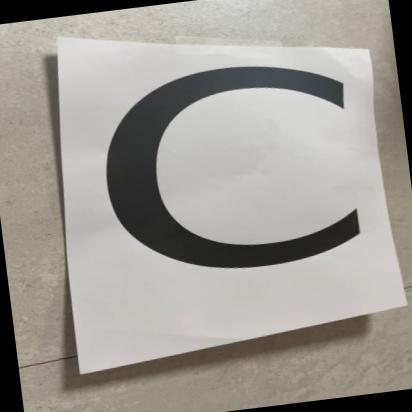seat: (65, 4, 409, 340)
